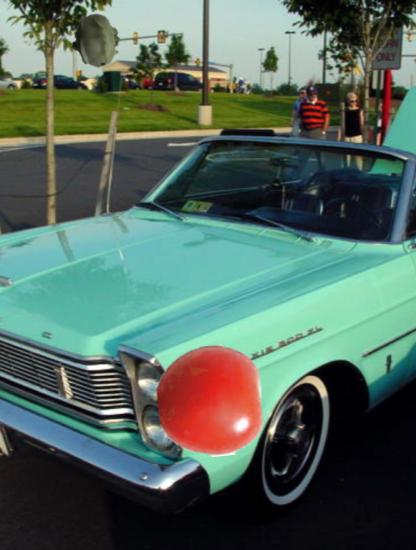Kohlrabi: (68, 13, 124, 69)
Tomato: (154, 346, 265, 457)
